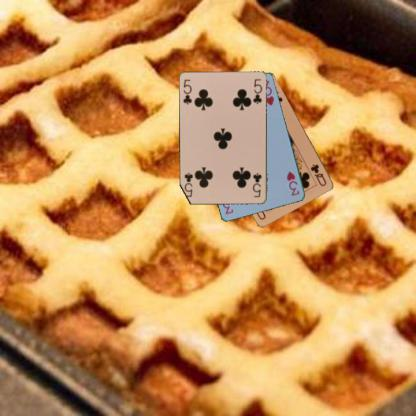3h: (284, 169, 301, 197)
5c: (250, 171, 263, 198), (181, 77, 193, 106)
Qc: (308, 162, 328, 188)
